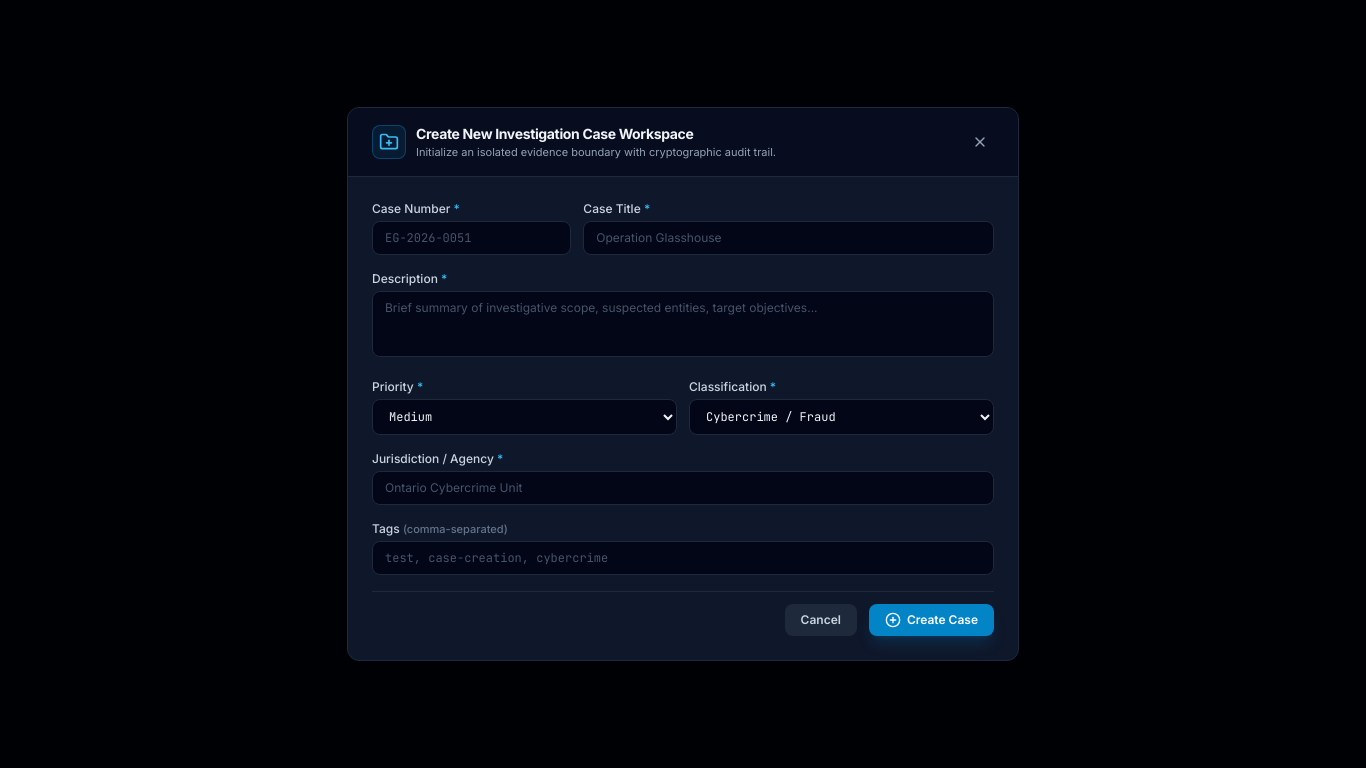
Test: CreateCaseModal Component › submits the exact payload matching requirements and updates case list
# Fill in Case Number
In the field with placeholder "EG-2026-0051": point(472, 238) [372,221,571,255], type "  EG-2026-TEST02  "
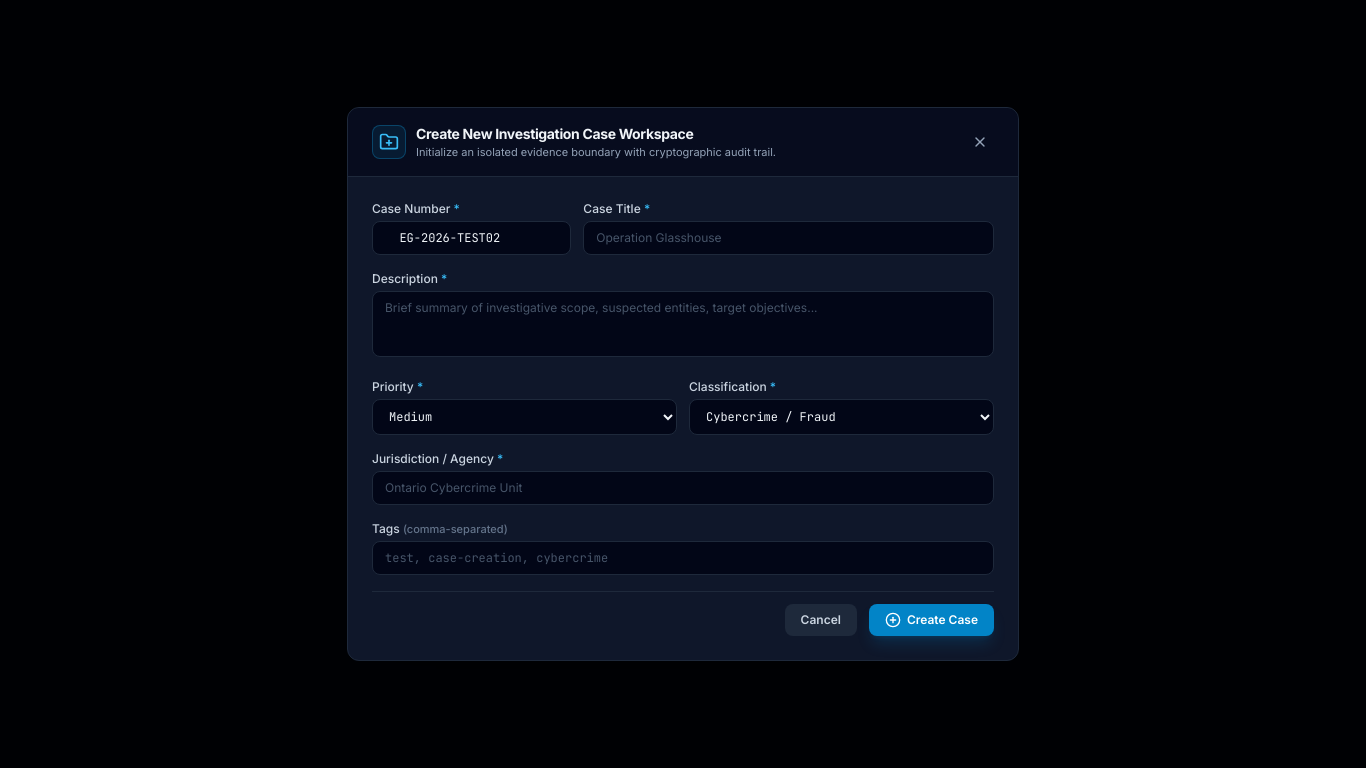
# Fill in Title
In the field with placeholder "Operation Glasshouse": point(789, 238) [583,221,994,255], type "  Operation Lighthouse  "
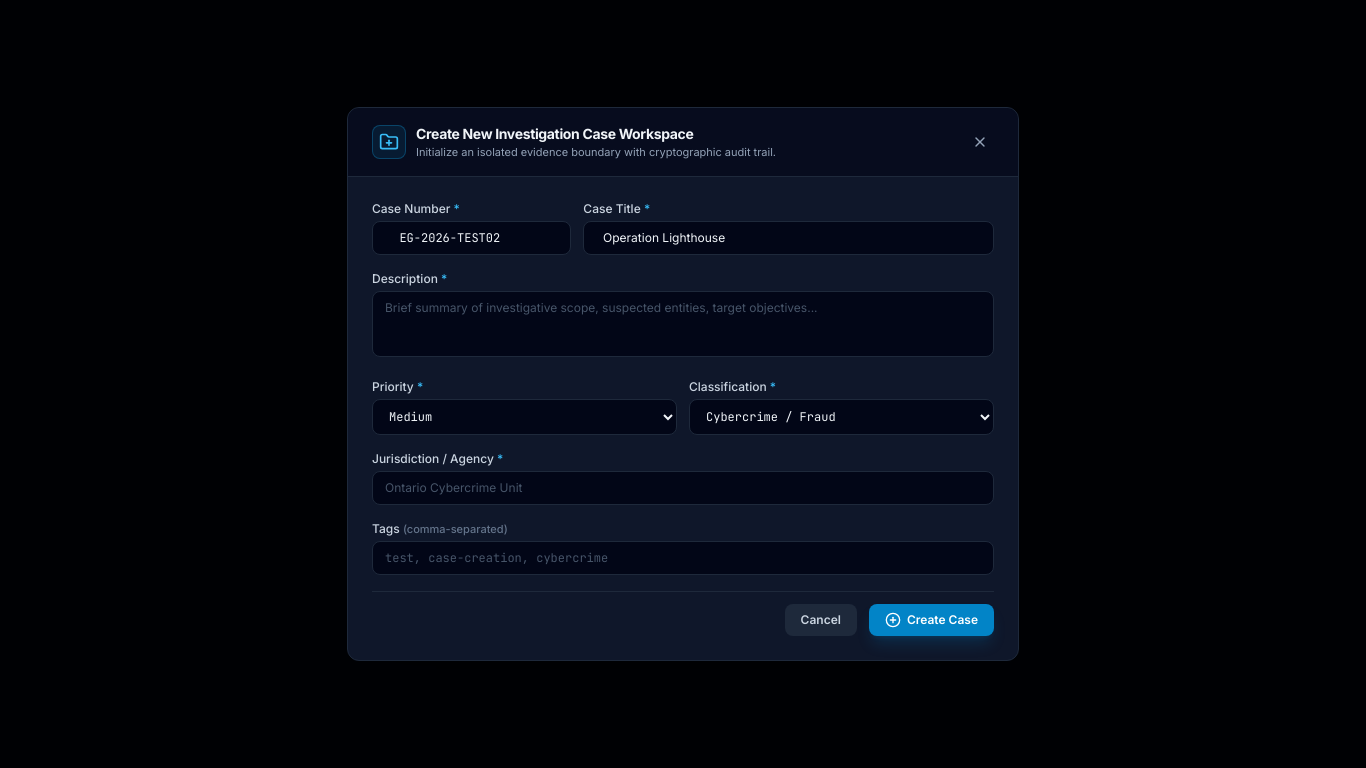
# Fill in Description
Replace the text in the text box with placeholder "Brief summary of investigative scope, suspected entities, target objectives..." with "Synthetic investigation created to validate EvidenceGraph case creation, case isolation, persistence, and audit behavior.": point(683, 324) [372,291,994,357]
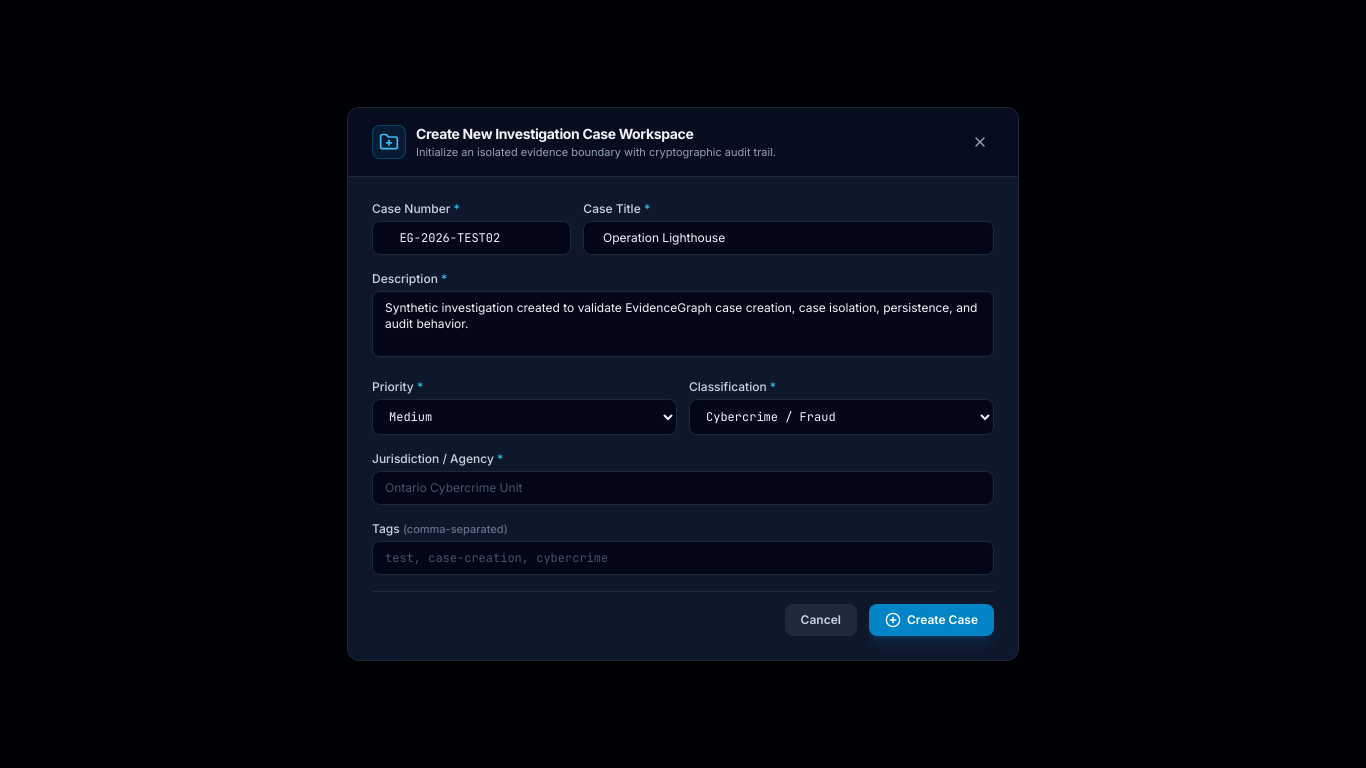
# Fill in Jurisdiction
In the field with placeholder "Ontario Cybercrime Unit": point(683, 488) [372,471,994,505], type "  Ontario Cybercrime Unit  "
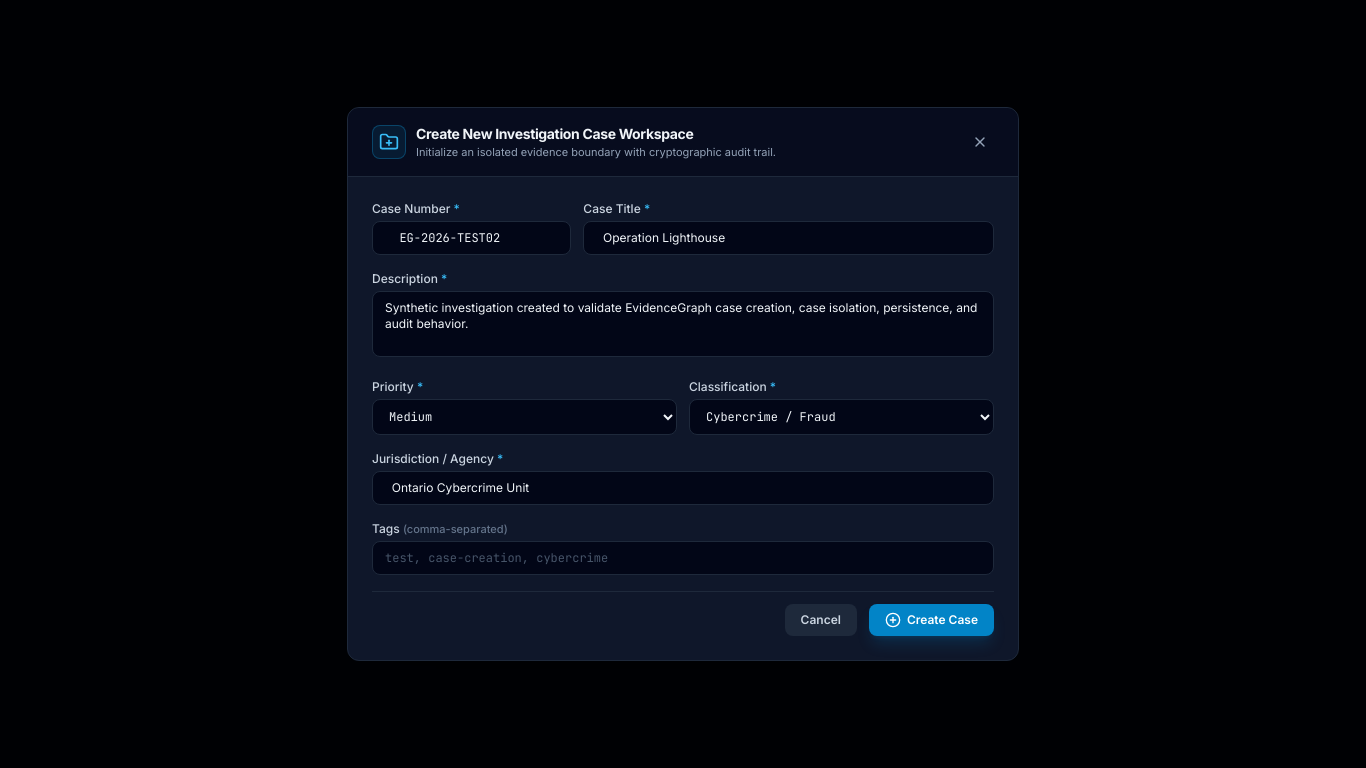
# Fill in Tags
In the field with placeholder "test, case-creation, cybercrime": point(683, 558) [372,541,994,575], type "test, case-creation, cybercrime, "
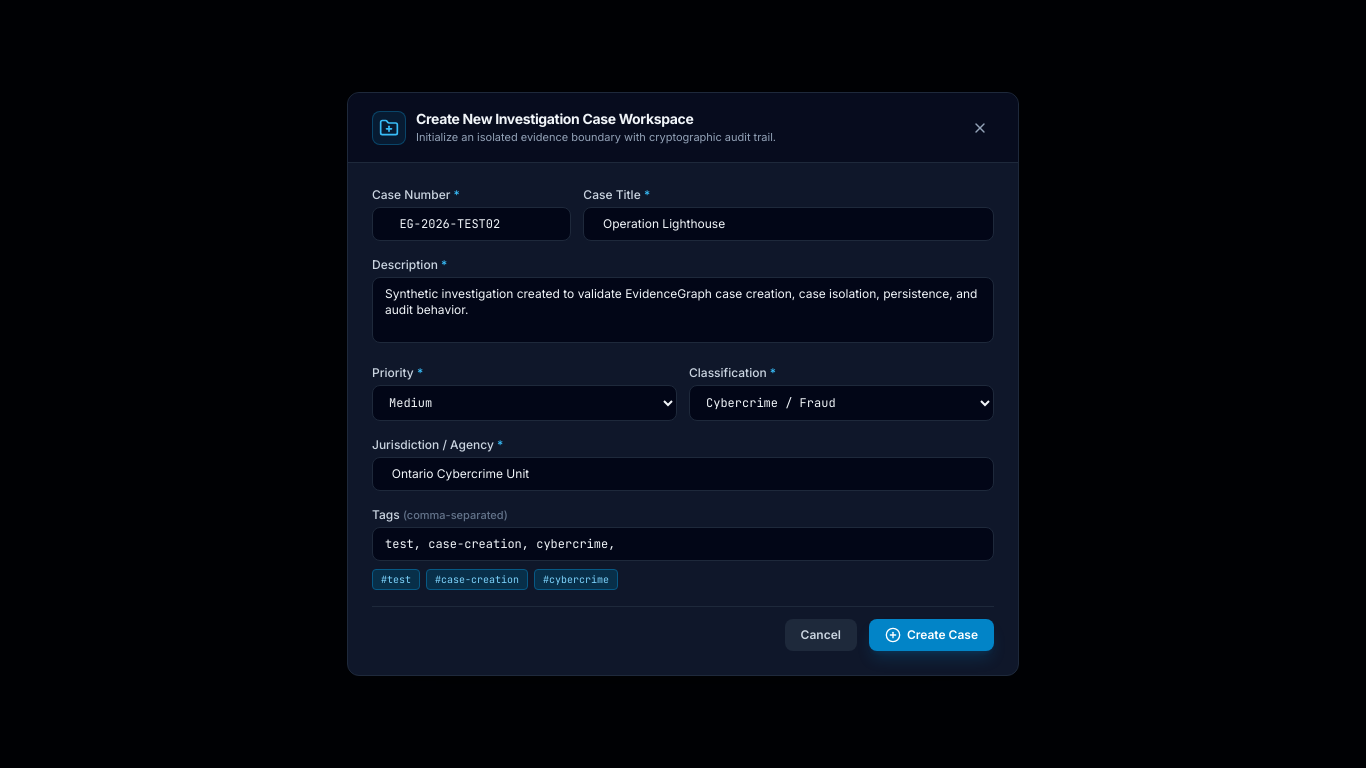
# Submit form
Click the button "Create Case": point(931, 635) [869,619,994,651]
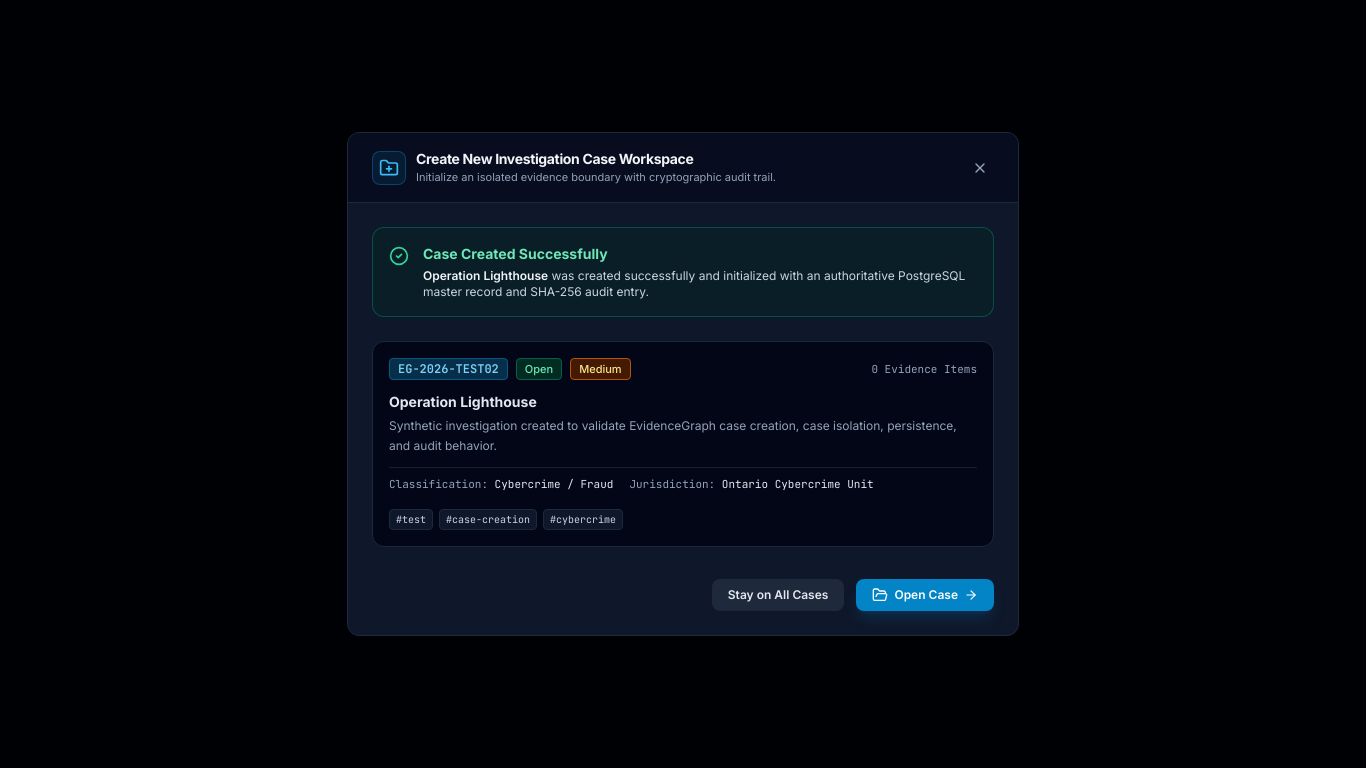
Result: the heading "Case Created Successfully" is shown at [423,245,608,262]
Result: the text "0 Evidence Items" is shown at [871,361,977,377]
Result: the button "Open Case" is shown at [856,579,994,611]
